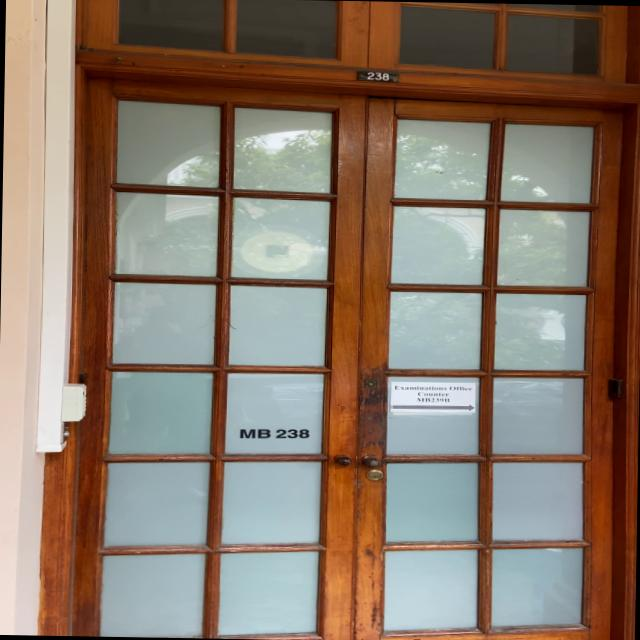room238: (353, 70, 400, 84)
